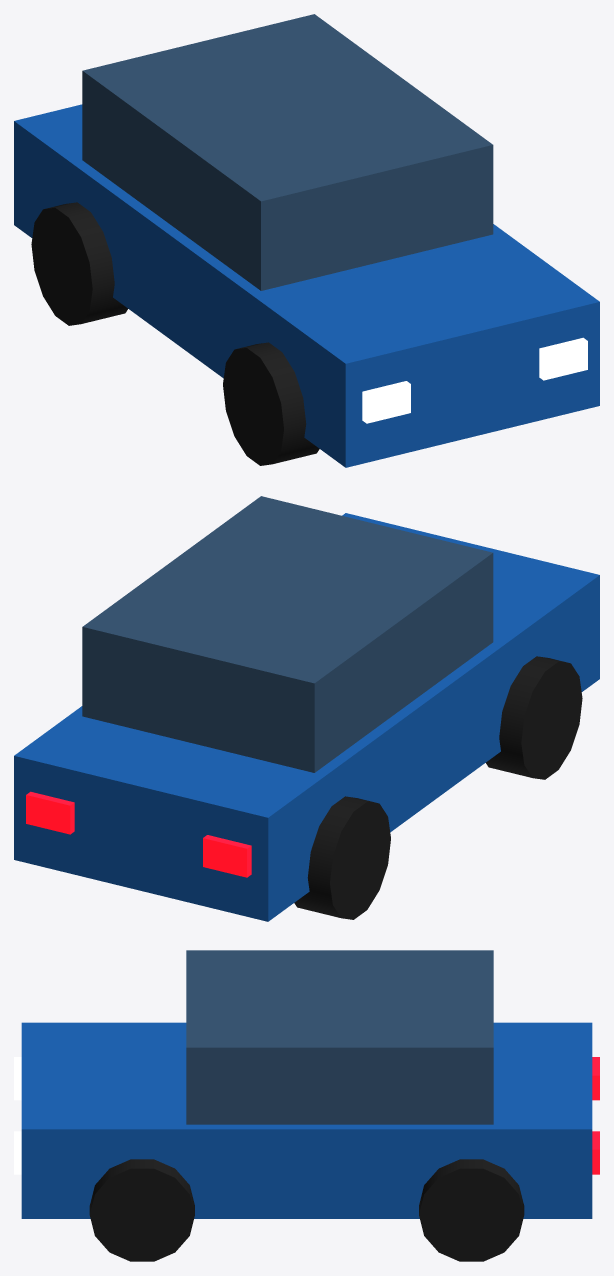
Rendered from sedan_blue.glb.
The picture shows the model from 3 angles, top to bottom: view 1: azimuth 30°, elevation 25°; view 2: azimuth 150°, elevation 25°; view 3: azimuth 270°, elevation 25°; orthographic projection. The views are drawn at different scales.
Bounding box in the file's own units: 2.7 × 2.01 × 5.34.
